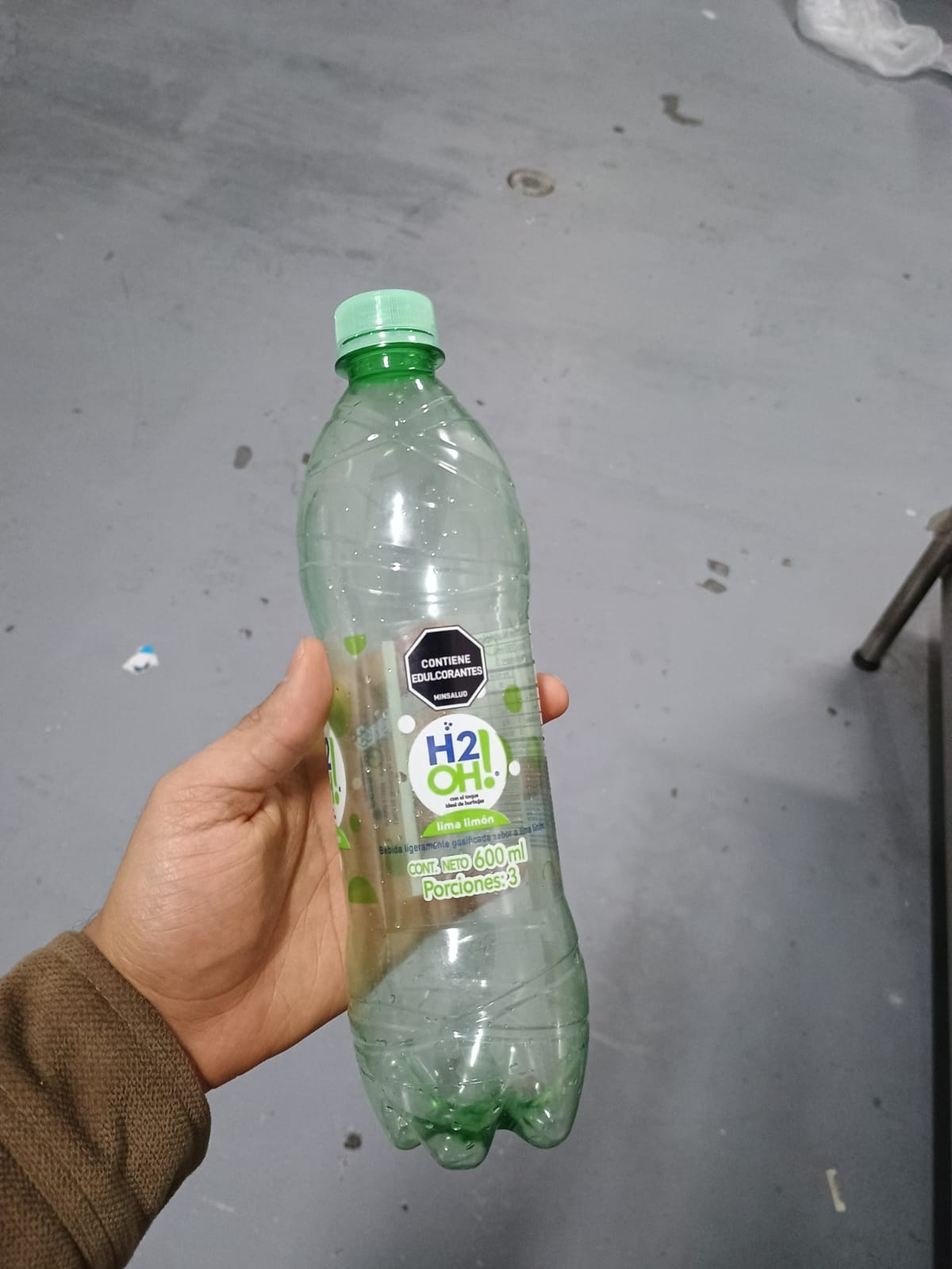Plastico: (299, 290, 593, 1168)
